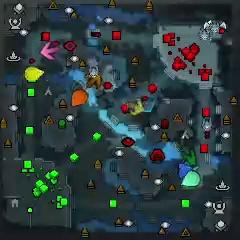p1: (178, 165, 194, 180)
p2: (180, 170, 201, 187)
p4: (24, 66, 45, 82)
p5: (71, 89, 88, 107)
x1: (40, 42, 59, 61)
x2: (127, 101, 145, 115)
x4: (181, 149, 198, 165)
x5: (85, 72, 102, 90)
